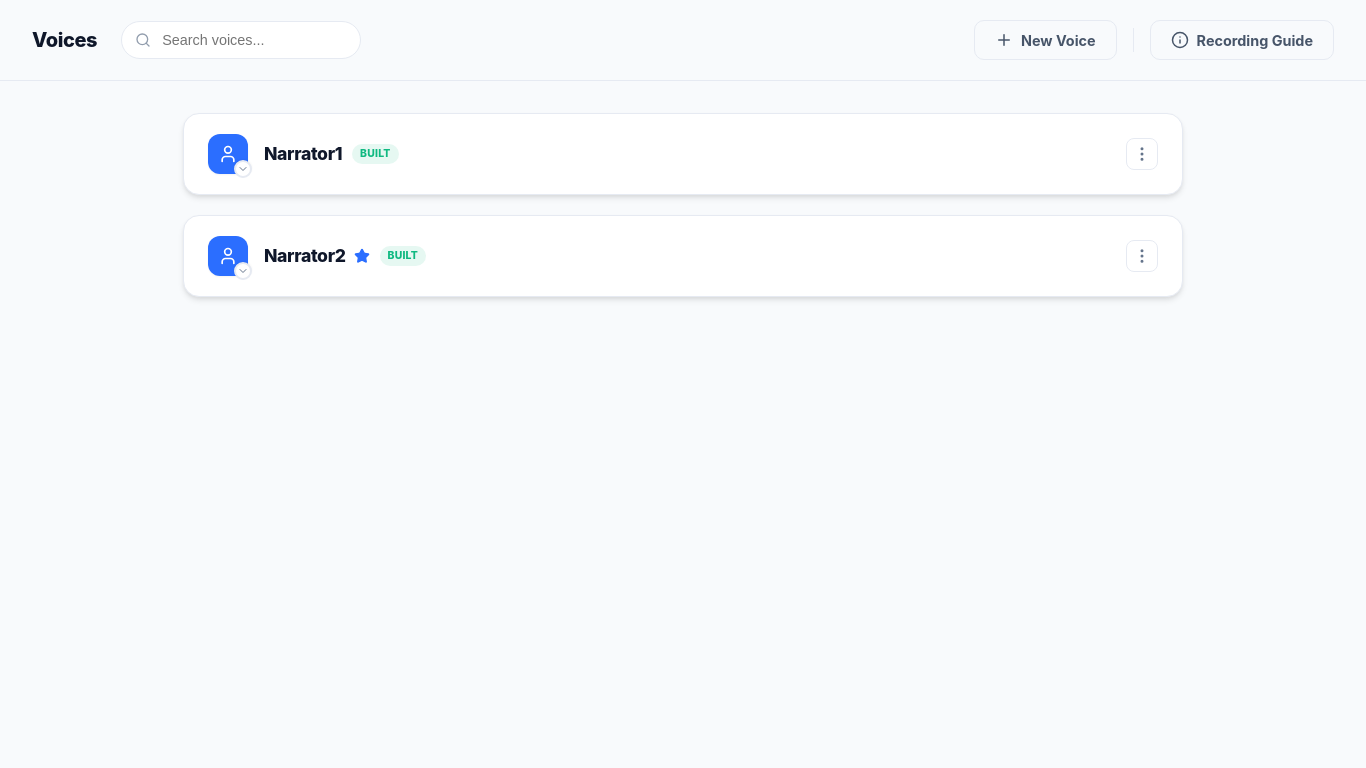
Test case: VoicesTab › opens profile details and allows building voice
The image size is (1366, 768).
Click the heading "Narrator1": (303, 154) x1=264 y1=140 x2=342 y2=168
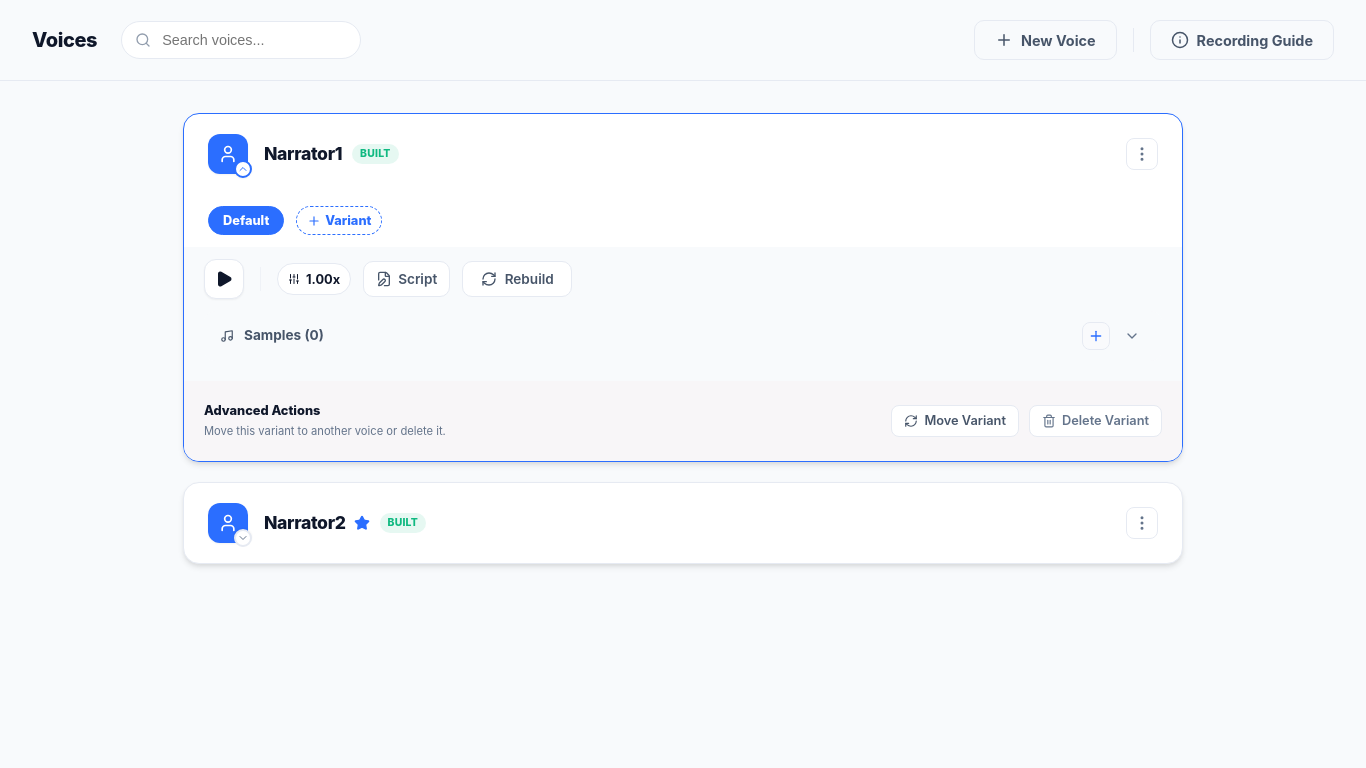
Result: the button "Rebuild" is shown at x1=462 y1=261 x2=572 y2=297
